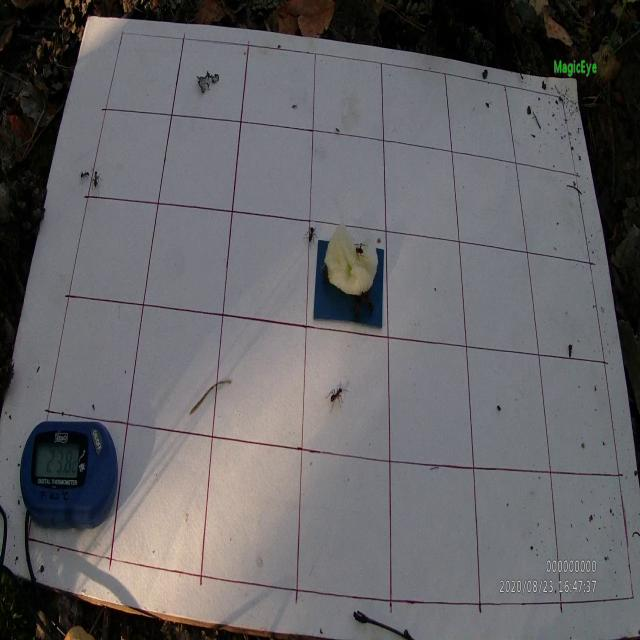Ant: (326, 380, 348, 415), (91, 166, 102, 196), (304, 226, 319, 248), (78, 169, 90, 183)
